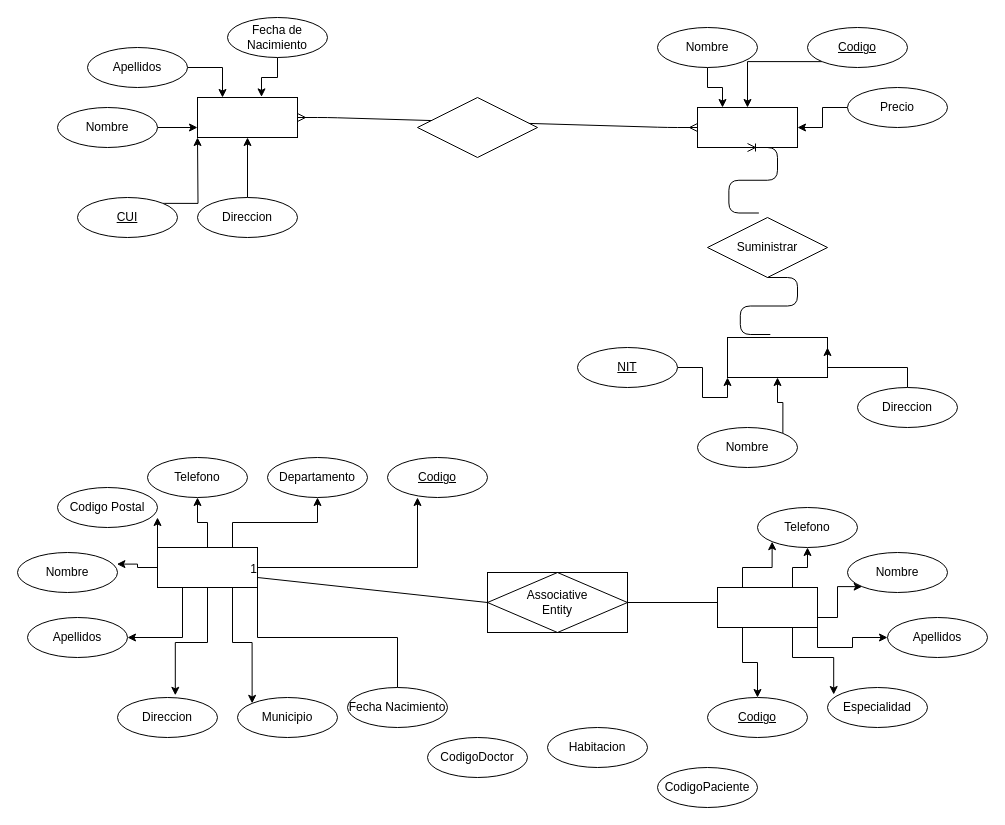
Image size: 1005x825. Some labels were removed from this diagram. The shapes that lost their labels are listed below. From the top down, each one's centre as x and y in pixels, then its label:
the point at 247,117: Ciente
the point at 477,127: Comprar
the point at 747,127: Producto
the point at 777,357: Proveedor
the point at 207,567: Paciente
the point at 767,607: Medico
